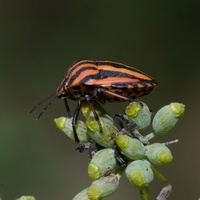insect: (56, 60, 156, 146)
